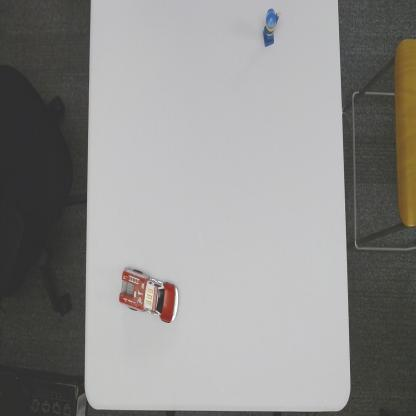Firetruck: (118, 263, 180, 327)
